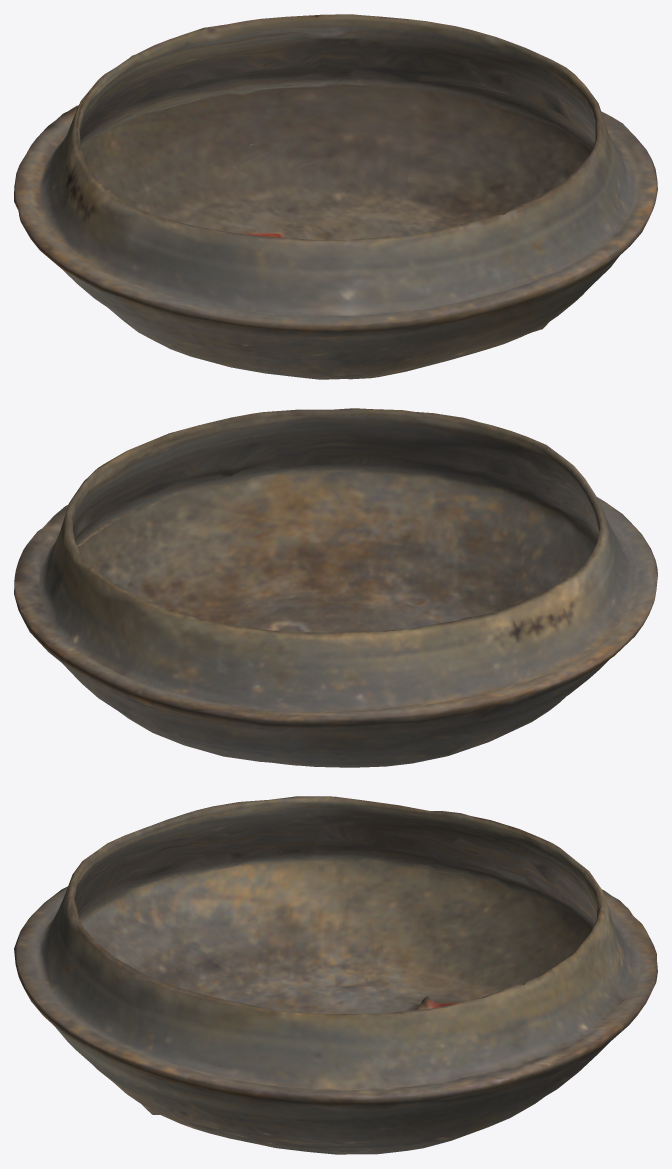
3 views of the same model, one above another, from view 1: azimuth 30°, elevation 25°; view 2: azimuth 150°, elevation 25°; view 3: azimuth 270°, elevation 25° (orthographic).
Parts seen in each view (by area): view 1: J-7606_ss_low; view 2: J-7606_ss_low; view 3: J-7606_ss_low.
Part boxes in pixels (box(x1,y1,x2,y2)): J-7606_ss_low: box(14, 14, 657, 379); J-7606_ss_low: box(14, 408, 657, 767); J-7606_ss_low: box(14, 796, 657, 1154).
Bounding box in the file's own units: 0.1602 × 0.0518 × 0.1622.
1 material, 1 textured.
